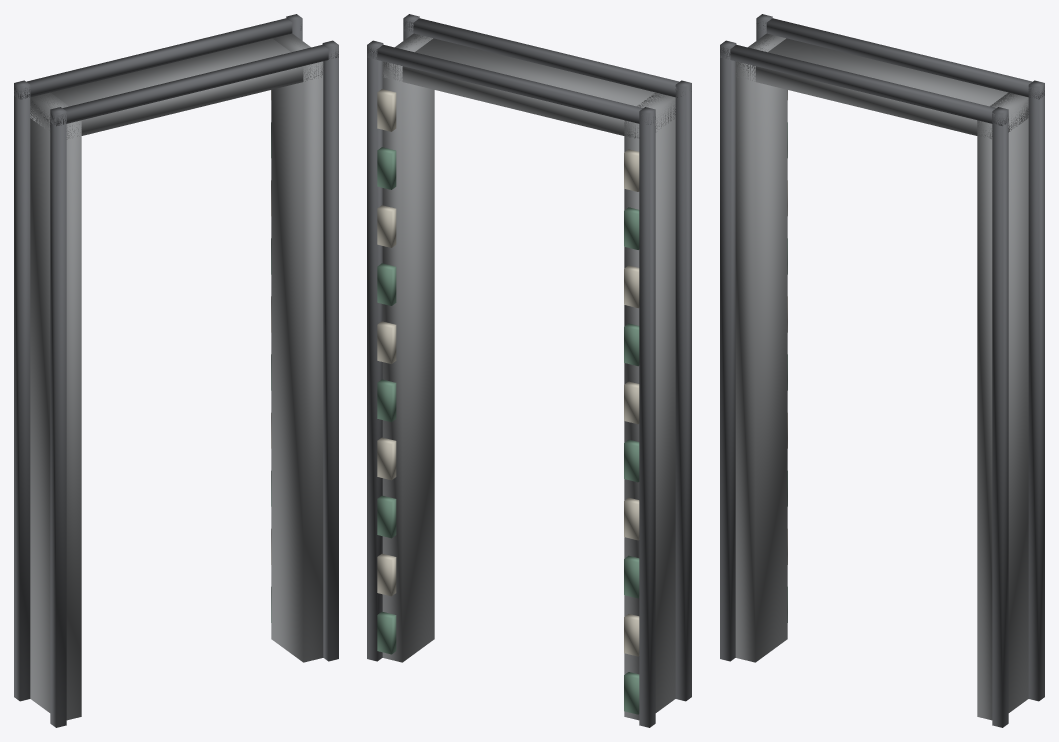
Rendered from doorway_tile_return_w96_h240_d24.glb.
The picture shows the model from 3 angles, left to right: view 1: azimuth 30°, elevation 25°; view 2: azimuth 150°, elevation 25°; view 3: azimuth 330°, elevation 25°; orthographic projection.
Parts seen in each view (by area): view 1: world; view 2: world; view 3: world.
Boxes of the visible parts, bbox=[...] form: world: bbox=[14, 14, 338, 727]; world: bbox=[367, 14, 691, 727]; world: bbox=[720, 14, 1044, 727].
Bounding box in the file's own units: 1.22 × 2.54 × 0.3207.
